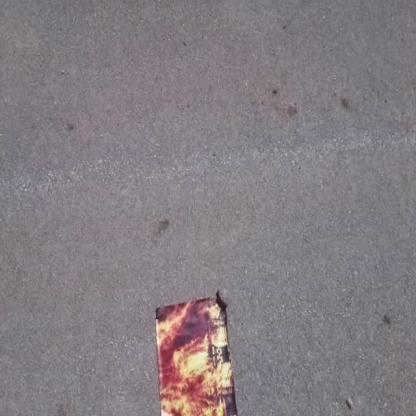fire-poster: (153, 289, 240, 415)
